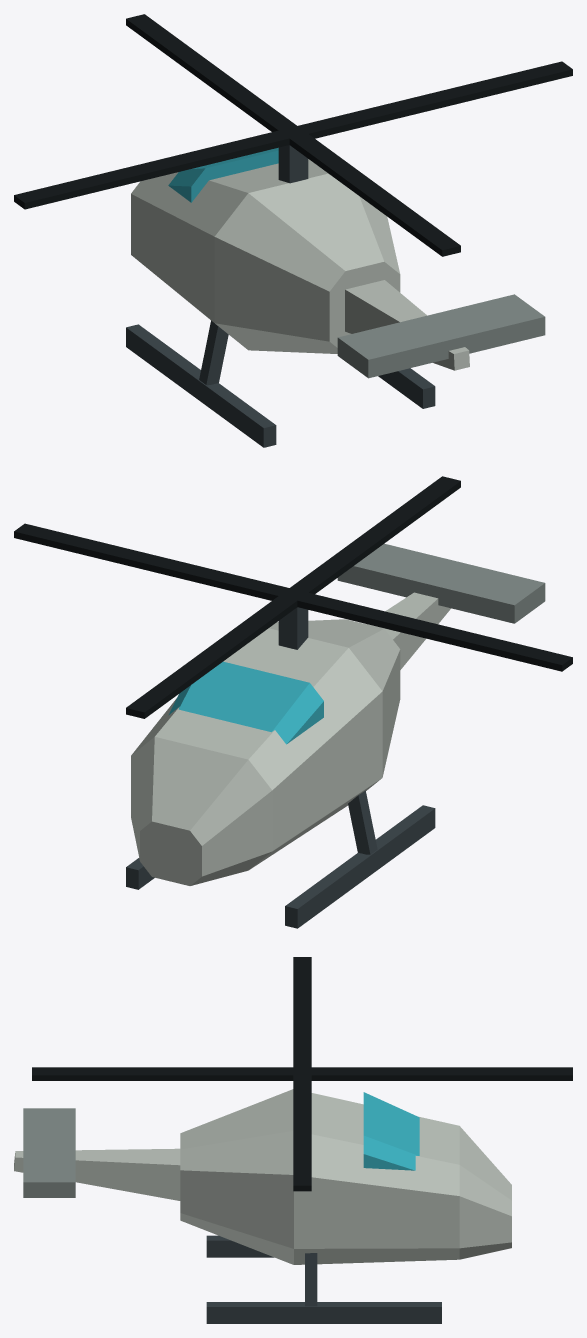
Rendered from family-vtol.glb.
3 renders of one model, top to bottom at view 1: azimuth 30°, elevation 25°; view 2: azimuth 150°, elevation 25°; view 3: azimuth 270°, elevation 25°, orthographic. The views are drawn at different scales.
Parts seen in each view (by area): view 1: hull, rotor, gear-1, gear1; view 2: hull, rotor, gear-1, gear1; view 3: hull, rotor, gear1, gear-1.
Boxes of the visible parts, x1,y1,x2,y2 form: hull: (131, 145, 545, 378); rotor: (14, 14, 572, 256); gear-1: (126, 320, 276, 447); gear1: (378, 368, 435, 408); hull: (131, 543, 545, 885); rotor: (14, 476, 572, 718); gear-1: (285, 790, 435, 928); gear1: (126, 858, 154, 889); hull: (14, 1089, 511, 1264); rotor: (32, 957, 572, 1191); gear1: (206, 1253, 441, 1323); gear-1: (206, 1235, 273, 1257).
Bounding box in the file's own units: 62 × 27.41 × 64.08.
